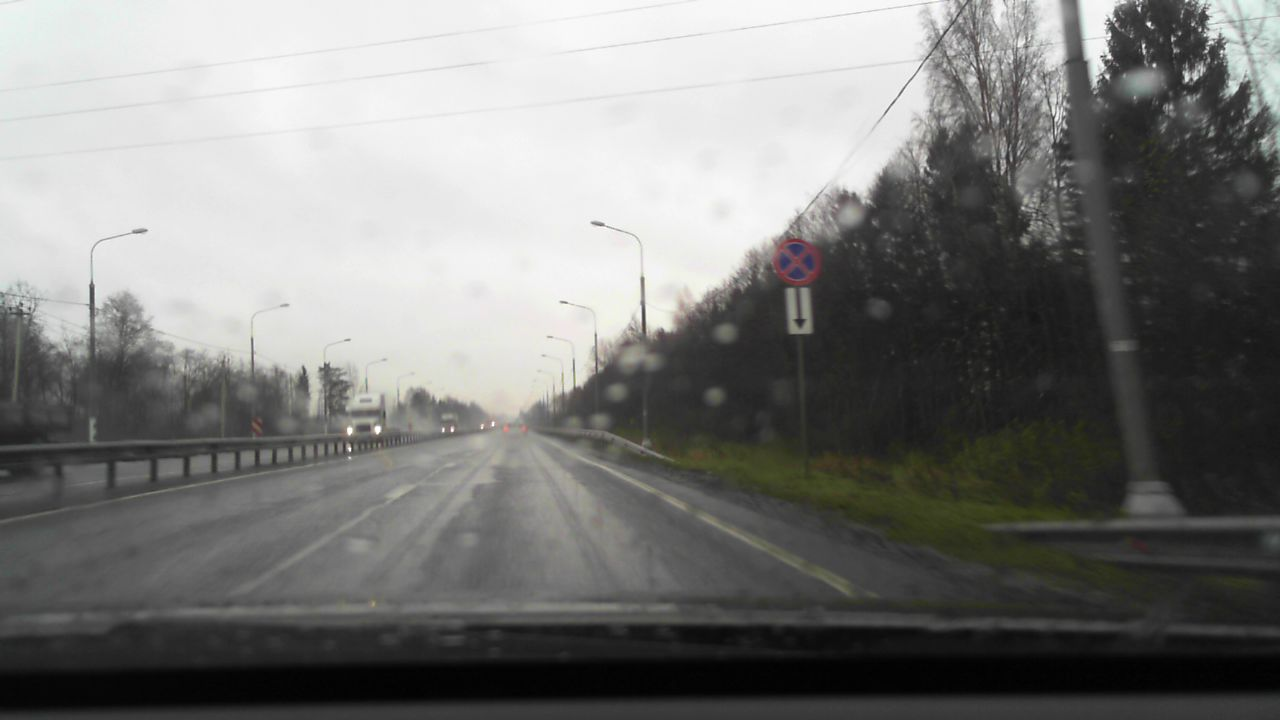No Parking: (772, 238, 821, 285)
